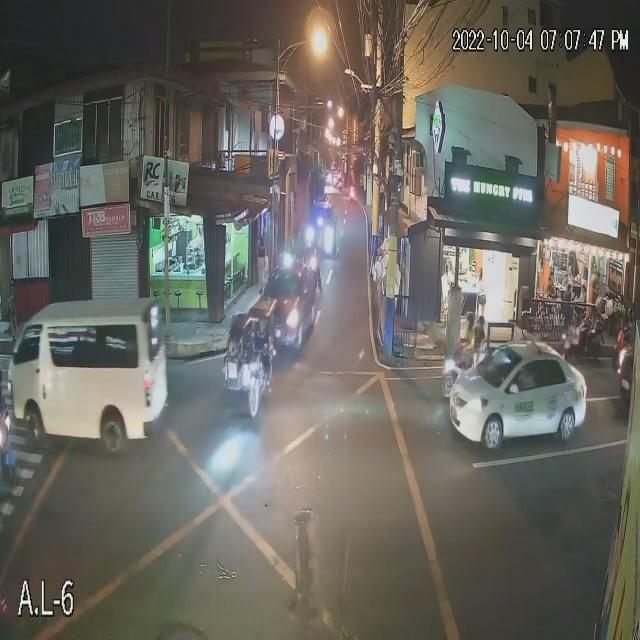helmet: (476, 313, 490, 329), (463, 310, 475, 328)
motorcycle: (441, 346, 479, 401)
rider: (453, 326, 476, 367), (472, 335, 487, 368)
